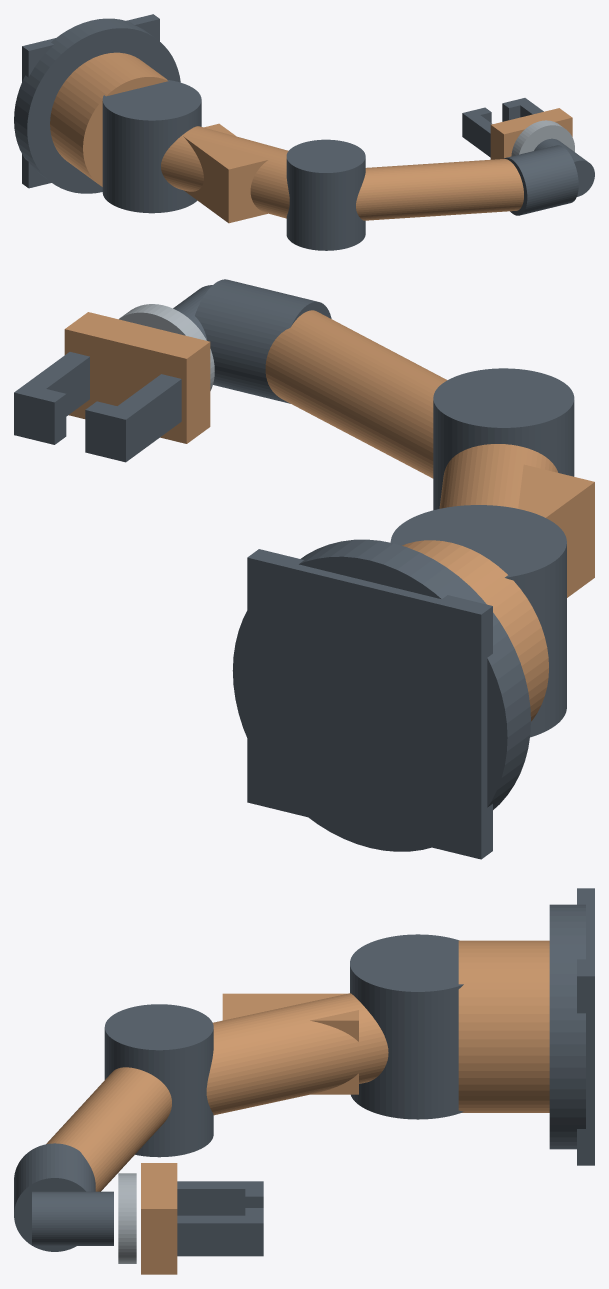
The model's file is assembly.glb.
The picture shows the model from 3 angles, top to bottom: view 1: azimuth 30°, elevation 25°; view 2: azimuth 150°, elevation 25°; view 3: azimuth 270°, elevation 25°; orthographic projection. The views are drawn at different scales.
Visible parts, largest first — view 1: part-000, part-002, part-003, part-005, part-004, part-001, part-006, part-008, part-007, part-009, part-010; view 2: part-000, part-005, part-002, part-004, part-008, part-003, part-006, part-001, part-009, part-010, part-007; view 3: part-003, part-002, part-001, part-000, part-004, part-006, part-005, part-008, part-010, part-009, part-007.
Boxes of the visible parts, box(x1,y1,x2,y2) form: part-000: box(14, 14, 180, 193); part-002: box(102, 79, 201, 213); part-003: box(161, 123, 289, 223); part-005: box(356, 159, 523, 220); part-004: box(286, 139, 365, 250); part-001: box(50, 52, 168, 186); part-006: box(504, 138, 594, 215); part-008: box(490, 108, 572, 159); part-007: box(511, 120, 574, 156); part-009: box(462, 107, 492, 157); part-010: box(502, 98, 543, 121); part-000: box(232, 539, 530, 859); part-005: box(265, 310, 447, 478); part-002: box(390, 505, 566, 737); part-004: box(433, 368, 574, 510); part-008: box(64, 312, 210, 443); part-003: box(439, 444, 594, 597); part-006: box(173, 279, 331, 403); part-001: box(402, 540, 548, 721); part-009: box(85, 374, 181, 462); part-010: box(14, 352, 89, 444); part-007: box(119, 304, 214, 390); part-003: box(206, 993, 388, 1115); part-002: box(350, 934, 463, 1119); part-001: box(458, 940, 549, 1112); part-000: box(549, 888, 594, 1165); part-004: box(104, 1004, 213, 1157); part-006: box(14, 1143, 113, 1251); part-005: box(46, 1067, 171, 1191); part-008: box(141, 1163, 177, 1274); part-010: box(177, 1208, 263, 1256); part-009: box(177, 1181, 263, 1215); part-007: box(118, 1173, 136, 1263).
Bounding box in the file's own units: 0.139 × 0.054 × 0.128.
